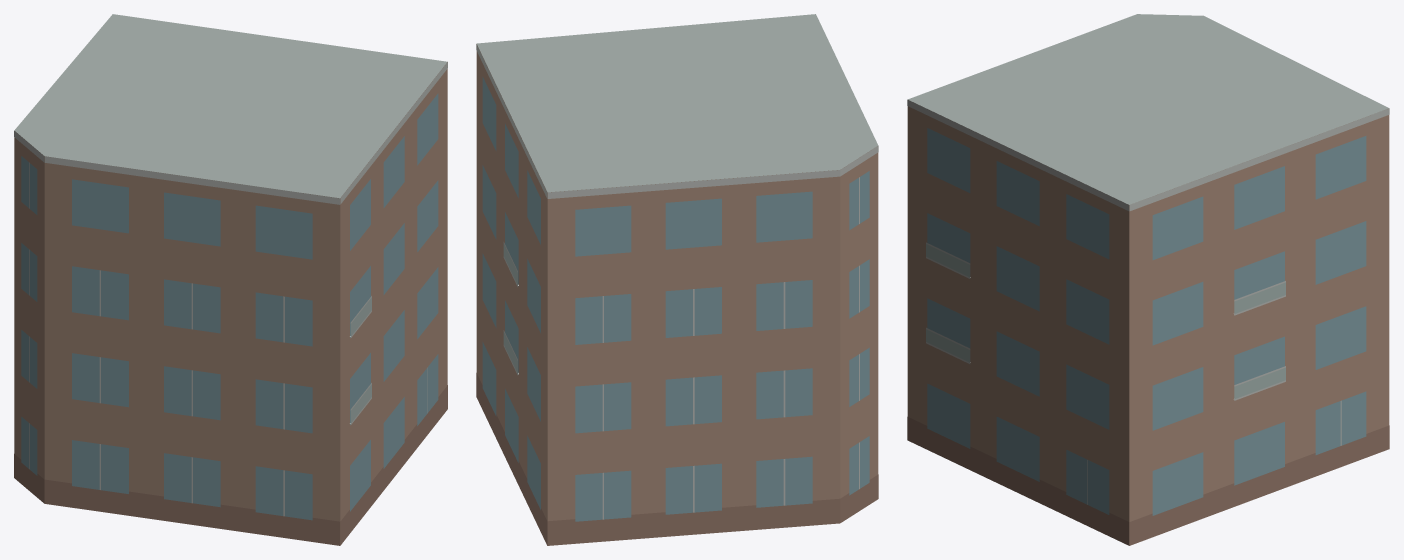
Rendered from survey-upis-32640241.glb.
3 renders of one model, left to right at view 1: azimuth 30°, elevation 25°; view 2: azimuth 150°, elevation 25°; view 3: azimuth 270°, elevation 25°, orthographic. The views are drawn at different scales.
Parts seen in each view (by area): view 1: survey-upis-32640241.tmp; view 2: survey-upis-32640241.tmp; view 3: survey-upis-32640241.tmp.
Part boxes in pixels (x1,y1,x2,y2): survey-upis-32640241.tmp: [14, 14, 447, 545]; survey-upis-32640241.tmp: [476, 14, 878, 545]; survey-upis-32640241.tmp: [907, 14, 1389, 545].
Bounding box in the file's own units: 15.39 × 12.8 × 16.41.
